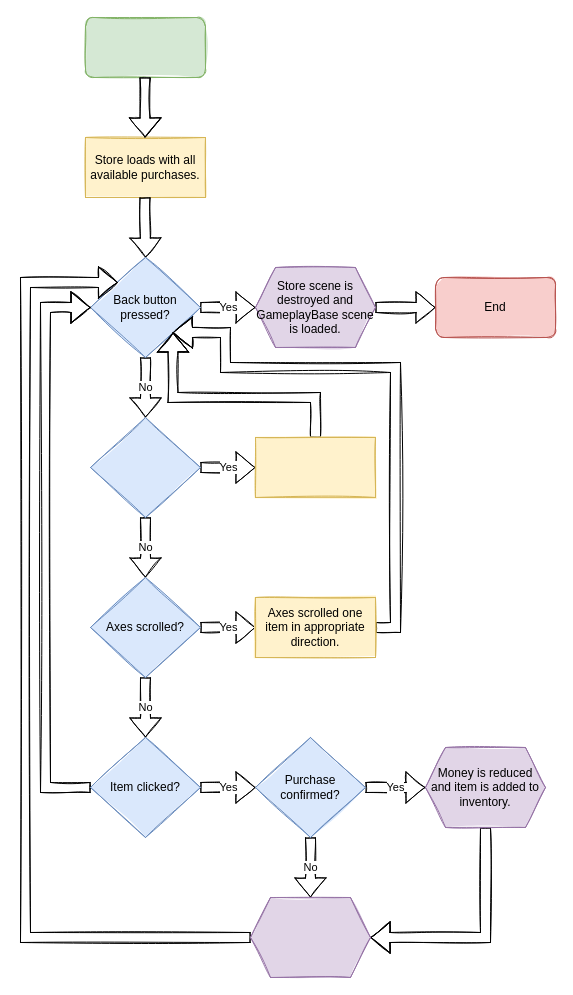
Image size: 573x995. Some labels were removed from this diagram. The shapes that lost their labels are listed below. From the top down, each one's box as (x1, y1, x2, y2) in pixels, then its label:
(84, 16, 206, 78): Start
(90, 416, 200, 518): Apparel scrolled?
(254, 436, 376, 498): Apparel scrolled one item in appropriate direction.
(250, 896, 370, 978): Modal closes.
